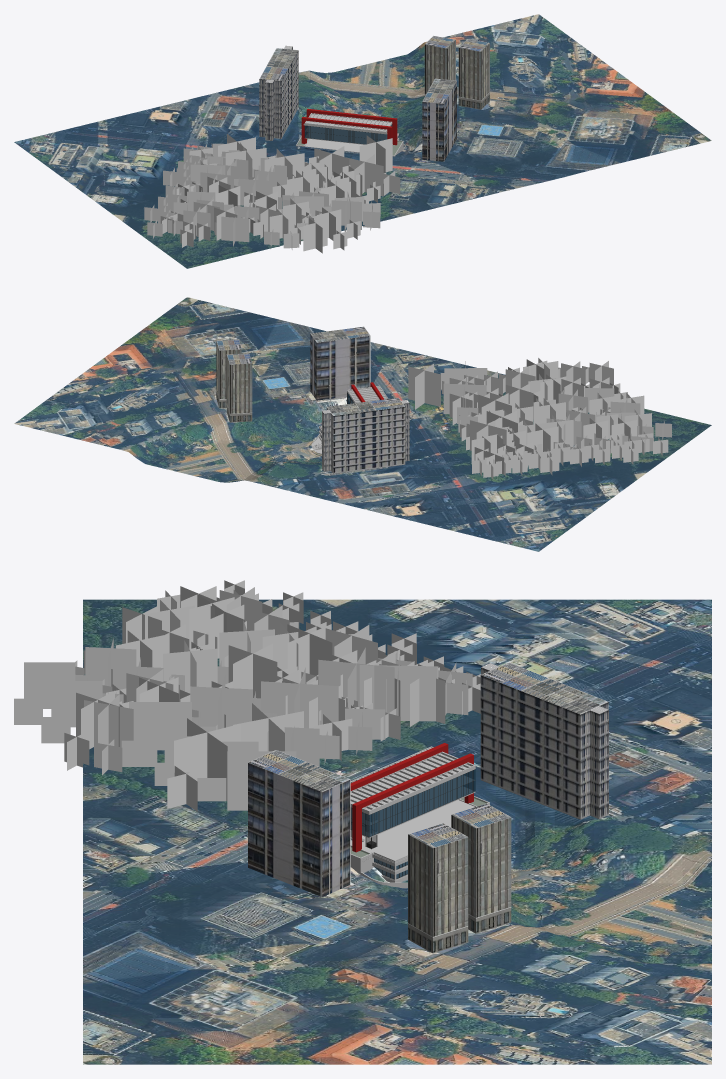
The model's file is MASP.fbx.
The picture shows the model from 3 angles, top to bottom: view 1: azimuth 30°, elevation 25°; view 2: azimuth 150°, elevation 25°; view 3: azimuth 270°, elevation 25°; orthographic projection. The views are drawn at different scales.
Parts seen in each view (by area): view 1: EXPORT_GOOGLE_SAT_WM, Trees.007, Trees.002, MASP_SP, Trees.004, Plane.004, Trees.008, Trees.005, Plane.005, Trees.006, Plane.002, Trees.003 (+5 smaller); view 2: EXPORT_GOOGLE_SAT_WM, Plane.004, Trees.004, Plane.005, Trees.002, Trees.007, Trees.006, EXPORT_GOOGLE_SAT_WM.001, Trees.008, Trees.005, Trees, Plane.006 (+5 smaller); view 3: EXPORT_GOOGLE_SAT_WM, Plane.004, Trees.002, Plane.005, MASP_SP, Trees.004, Plane.002, Trees.007, Trees.005, Trees.008, Trees.006, Trees (+4 smaller).
Boxes of the visible parts, x1,y1,x2,y2 form: EXPORT_GOOGLE_SAT_WM: (14,14,711,268); Trees.007: (144,198,347,253); Trees.002: (189,134,400,196); MASP_SP: (296,108,405,156); Trees.004: (163,158,368,208); Plane.004: (259,45,298,140); Trees.008: (160,192,380,247); Trees.005: (176,176,380,231); Plane.005: (422,78,456,161); Trees.006: (158,188,360,240); Plane.002: (458,39,489,109); Trees.003: (178,152,380,202); EXPORT_GOOGLE_SAT_WM: (14,297,711,551); Plane.004: (322,397,409,473); Trees.004: (499,366,588,475); Plane.005: (310,326,370,400); Trees.002: (440,361,533,474); Trees.007: (582,361,668,464); Trees.006: (558,361,634,464); EXPORT_GOOGLE_SAT_WM.001: (370,357,449,463); Trees.008: (508,359,671,453); Trees.005: (523,358,610,453); Trees: (442,376,528,479); Plane.006: (226,353,252,422); EXPORT_GOOGLE_SAT_WM: (83,599,711,1064); Plane.004: (480,662,608,819); Trees.002: (167,647,472,811); Plane.005: (248,750,350,896); MASP_SP: (350,743,489,888); Trees.004: (121,621,416,766); Plane.002: (408,823,468,953); Trees.007: (14,580,303,724); Trees.005: (64,620,353,770); Trees.008: (84,590,241,775); Trees.006: (41,599,331,743); Trees: (197,660,480,801).
Bounding box in the file's own units: 53506 × 7081 × 33927.
